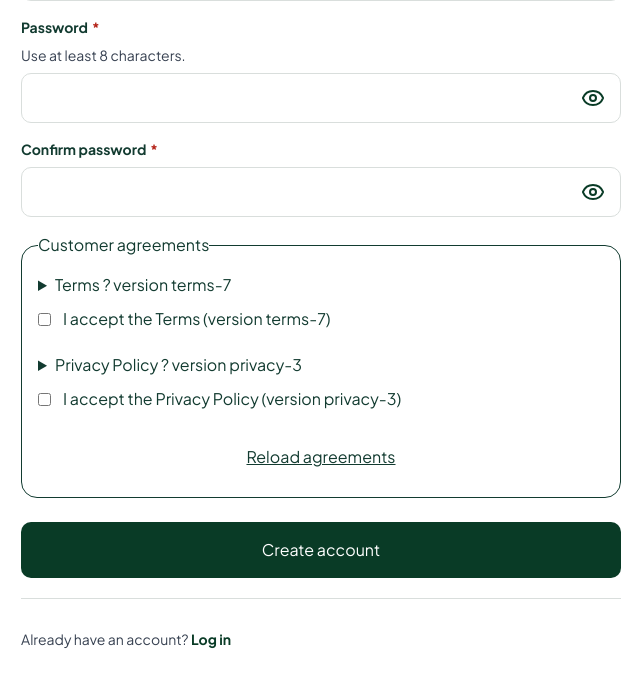
Test: marketplace hybrid customer authentication › uses the same validation and agreement requirements in the page
(page scrolled)
Click the button "Create account" at (321, 550), box [21,522,621,578]
(page scrolled)
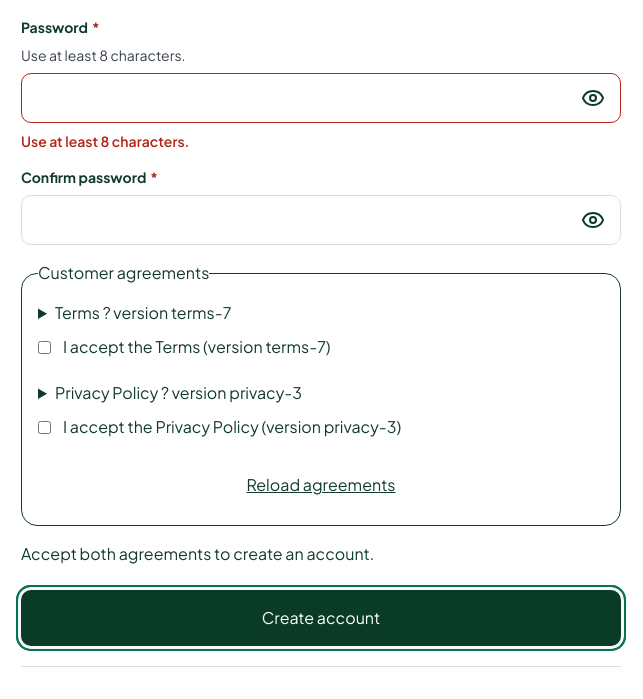
Result: the text "Accept both agreements to create an account." is shown at [21,543,374,564]
